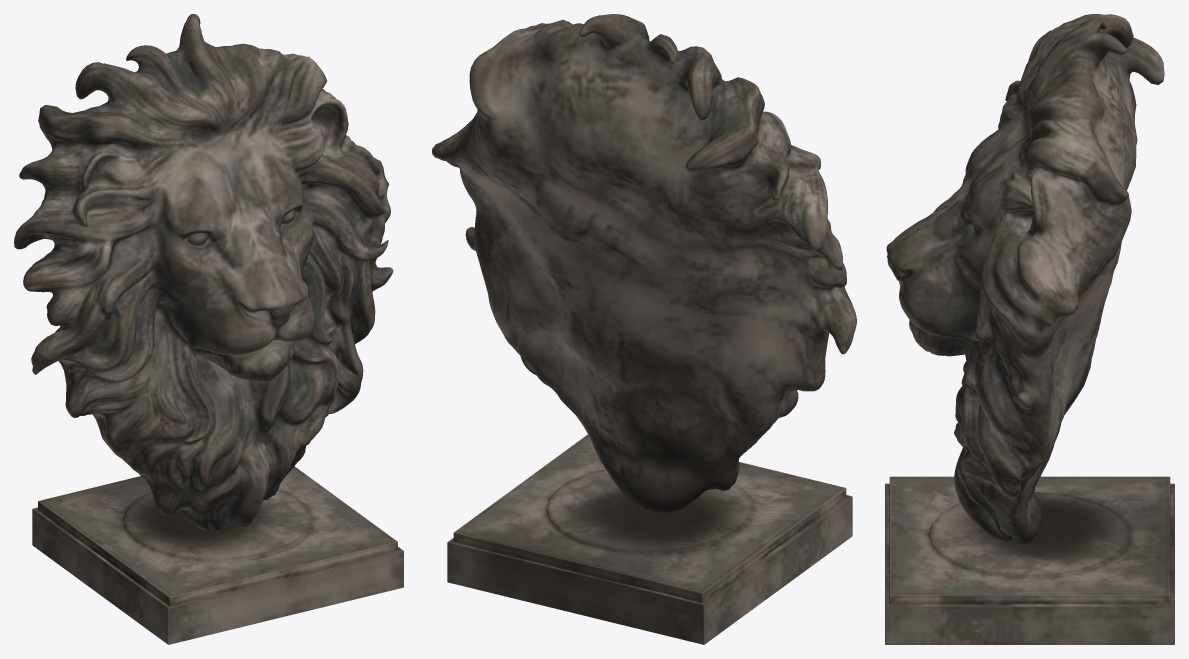
3 views of the same model, side by side, from view 1: azimuth 30°, elevation 25°; view 2: azimuth 150°, elevation 25°; view 3: azimuth 270°, elevation 25° (orthographic). The views are drawn at different scales.
Parts seen in each view (by area): view 1: lion_head; view 2: lion_head; view 3: lion_head.
Boxes of the visible parts, bbox=[...] form: lion_head: bbox=[14, 14, 403, 644]; lion_head: bbox=[432, 14, 856, 644]; lion_head: bbox=[885, 14, 1174, 644].
Bounding box in the file's own units: 0.3208 × 0.4364 × 0.2066.
1 material, 1 textured.
